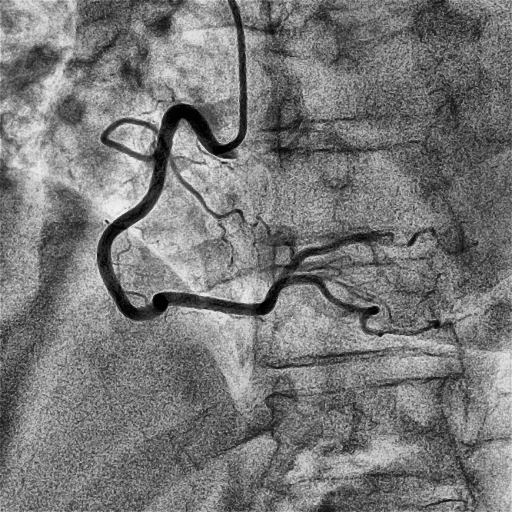pborca: (279, 226, 473, 276)
pda: (277, 275, 439, 337)
rca: (97, 104, 279, 321)
